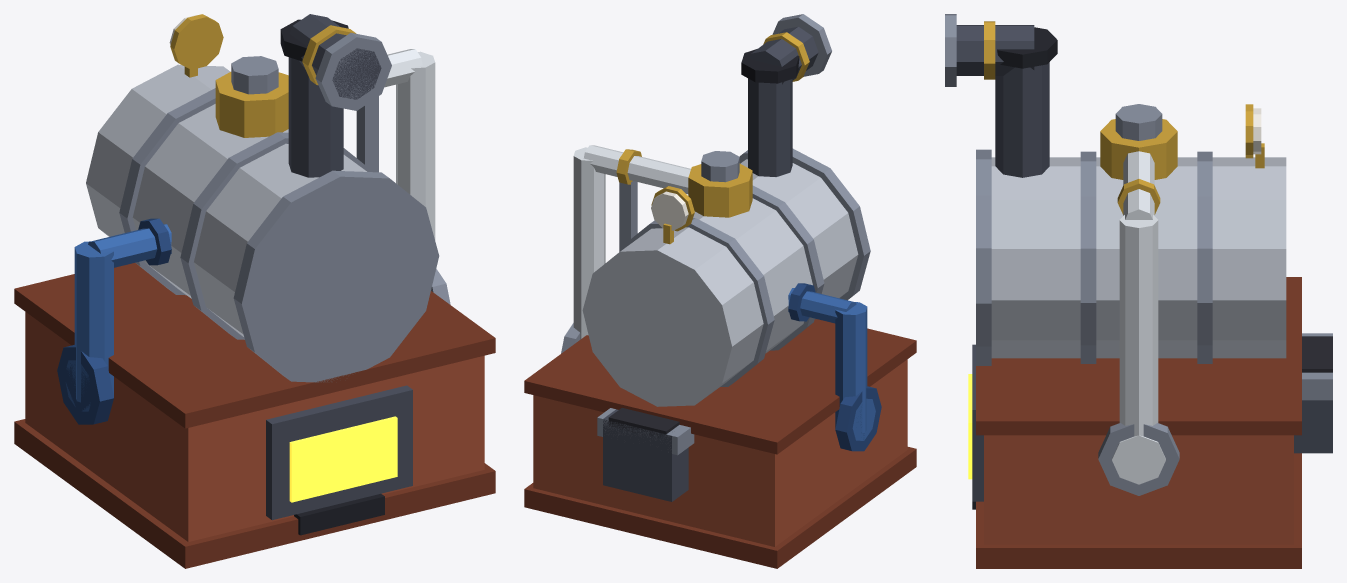
File: steam-boiler.glb
The picture shows the model from 3 angles, left to right: view 1: azimuth 30°, elevation 25°; view 2: azimuth 150°, elevation 25°; view 3: azimuth 270°, elevation 25°; orthographic projection. The views are drawn at different scales.
Parts seen in each view (by area): view 1: steam-boiler; view 2: steam-boiler; view 3: steam-boiler.
Part boxes in pixels (x1,y1,x2,y2): steam-boiler: (14, 14, 495, 568); steam-boiler: (524, 14, 916, 568); steam-boiler: (945, 14, 1332, 568).
Size of the model in its own units: 1.01 by 1.37 by 1.
1 material, 1 textured.
